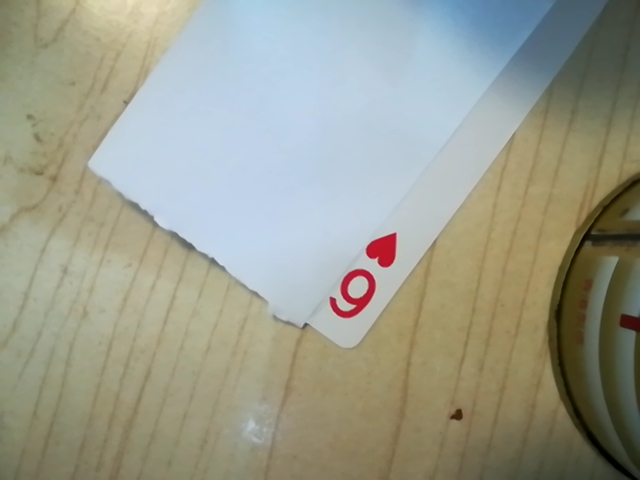hx 6: (319, 227, 402, 328)
